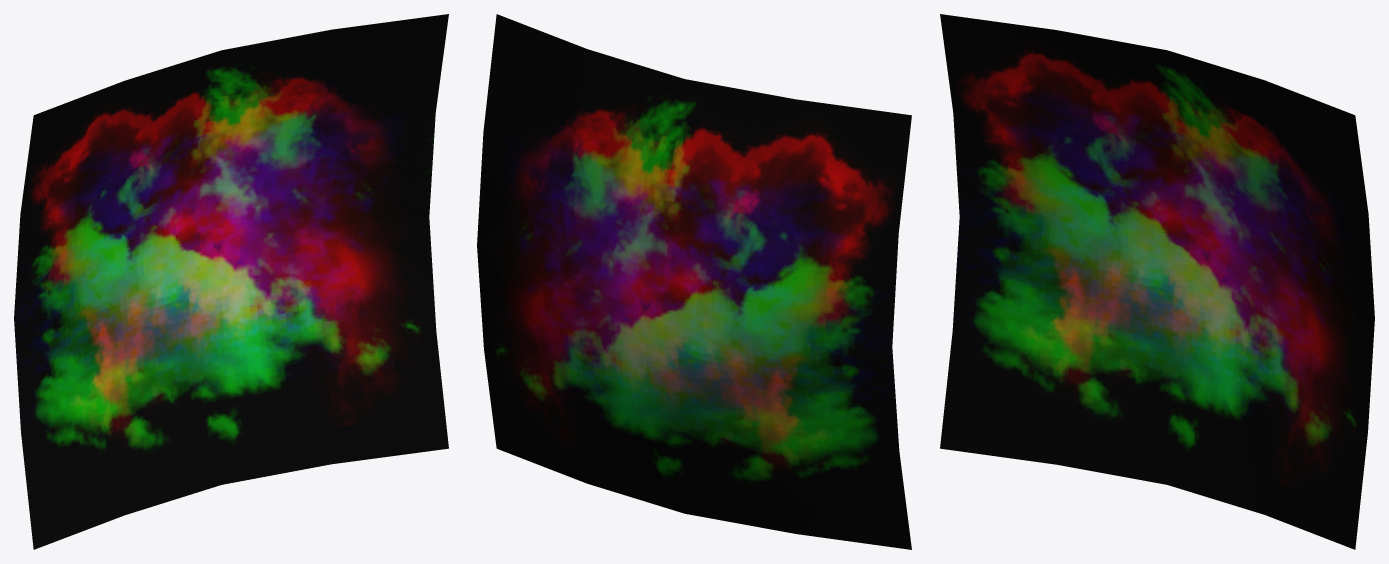
Rendered from clouds_B1.FBX.
3 renders of one model, left to right at view 1: azimuth 30°, elevation 25°; view 2: azimuth 150°, elevation 25°; view 3: azimuth 330°, elevation 25°, orthographic.
Parts seen in each view (by area): view 1: clouds_B1; view 2: clouds_B1; view 3: clouds_B1.
Boxes of the visible parts, left/top/right/bottom form: clouds_B1: left=14, top=14, right=448, bottom=549; clouds_B1: left=477, top=14, right=911, bottom=549; clouds_B1: left=940, top=14, right=1374, bottom=549.
Size of the model in its own units: 199 by 199 by 34.69.
